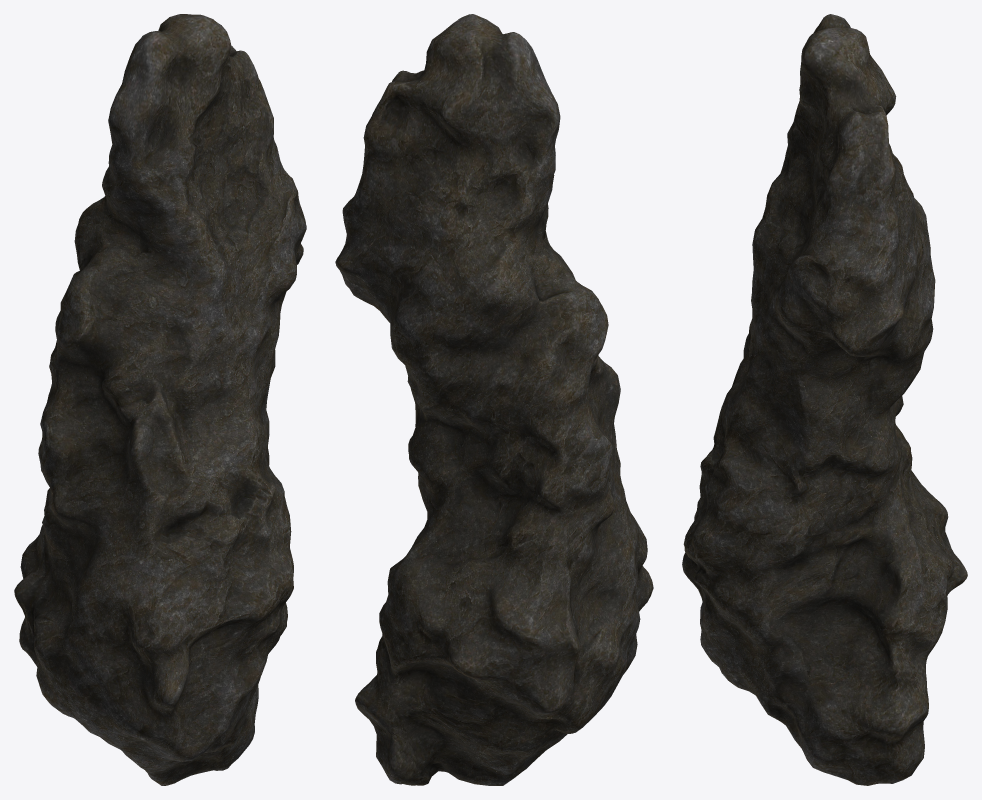
Rendered from set2_rock_08.fbx.
3 renders of one model, left to right at view 1: azimuth 30°, elevation 25°; view 2: azimuth 150°, elevation 25°; view 3: azimuth 270°, elevation 25°, orthographic. The views are drawn at different scales.
Visible parts, largest first — view 1: set2_rock_08; view 2: set2_rock_08; view 3: set2_rock_08.
Boxes of the visible parts, x1,y1,x2,y2 form: set2_rock_08: (14, 14, 306, 785); set2_rock_08: (335, 14, 653, 785); set2_rock_08: (682, 14, 967, 785).
Size of the model in its own units: 121 by 329 by 115.
1 material, 1 textured.
